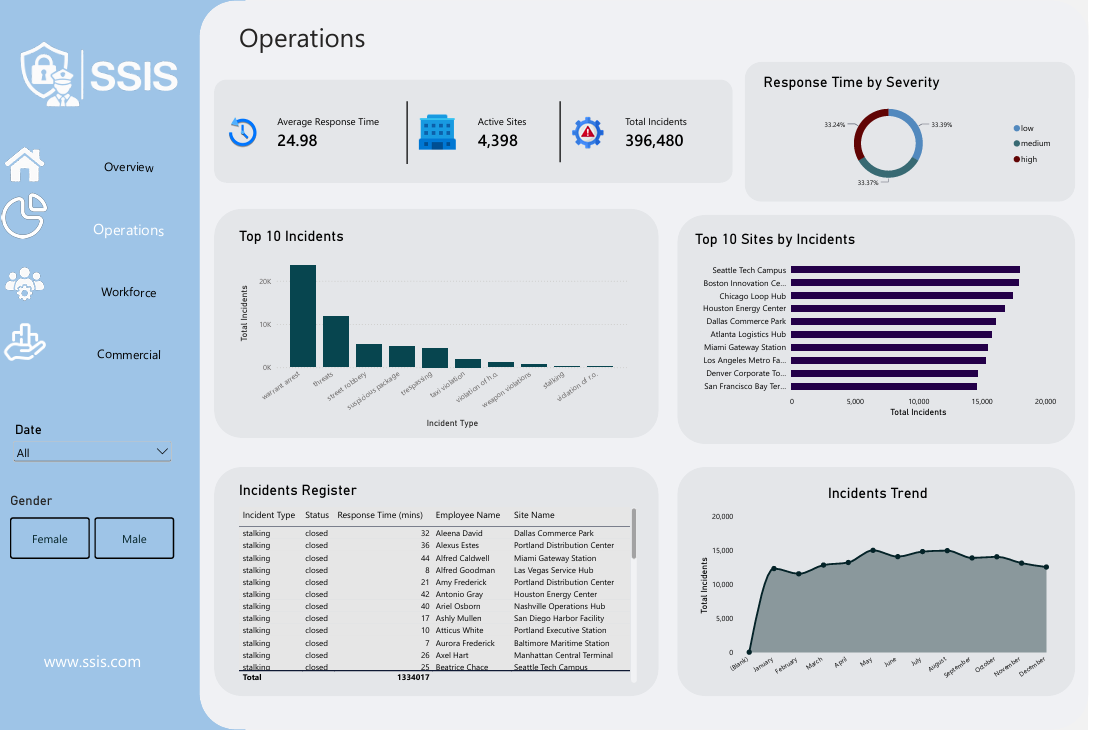

This screenshot's page, from the dashboard's own definition file:
{"tool":"powerbi","page":{"name":"Operations","canvas":[1280,720],"ordinal":2},"visuals":[{"type":"textbox","box":[401.1,11.8,859.6,64.7],"z":0},{"type":"shape","box":[10.3,11.8,205.7,696.5],"z":1000},{"type":"textbox","box":[29.4,27.9,173.4,48.5],"z":2000},{"type":"actionButton","box":[23.5,477.6,175.6,58.9],"z":2000,"group":"g1"},{"type":"actionButton","box":[29.4,373.2,174.1,58.9],"z":3000,"group":"g2"},{"type":"group","id":"g1","title":"Group 1","box":[23.5,477.6,174.9,58.8],"z":3000},{"type":"actionButton","box":[26.4,577.5,176.3,60.2],"z":3000,"group":"g7"},{"type":"group","id":"g2","title":"Group 2","box":[29.4,373.2,173.4,58.8],"z":4000},{"type":"image","box":[29.3,577.5,36.7,60.2],"z":4000,"group":"g7"},{"type":"group","id":"g3","title":"Group 3","box":[23.5,270.4,174.9,58.8],"z":5000},{"type":"actionButton","box":[23.5,270.4,174.9,58.8],"z":5000,"group":"g3"},{"type":"tableEx","title":"Top 10 Incidents","fields":{"Values":["ssis incident.incident_type","CountNonNull(ssis incident.incident_type)"]},"box":[986.8,99.1,273.9,322.1],"z":6000},{"type":"clusteredBarChart","title":"Top 10 Sites by Incidents","fields":{"Category":["ssis site.site_name"],"Y":["CountNonNull(ssis incident.incident_type)"]},"box":[227.1,200.9,389.5,351],"z":7000},{"type":"cardVisual","title":"Average Response Time","fields":{"Data":["ssis incident.Average Response Time"]},"box":[227.1,93.6,212.3,99.5],"z":8000,"group":"g4"},{"type":"clusteredColumnChart","title":"Response Time by Severity","fields":{"Category":["ssis incident.severity"],"Y":["Avg(ssis incident.response_time_minutes)"]},"box":[627.1,201.6,349.5,219.9],"z":8000},{"type":"image","box":[24.8,477.6,38,58.9],"z":8000,"group":"g1"},{"type":"cardVisual","title":"Total Incidents","fields":{"Data":["ssis incident.Total Incidents"]},"box":[764.1,89.6,213.1,98.4],"z":9000,"group":"g6"},{"type":"image","box":[30.7,373.2,37.7,58.9],"z":9000,"group":"g2"},{"type":"lineChart","title":"Incidents Trend","fields":{"Y":["CountNonNull(ssis incident.incident_type)"],"Category":["ssis incident.incident_datetime.Variation.Date Hierarchy.Year","ssis incident.incident_datetime.Variation.Date Hierarchy.Quarter","ssis incident.incident_datetime.Variation.Date Hierarchy.Month","ssis incident.incident_datetime.Variation.Date Hierarchy.Day"]},"box":[227.8,566.8,388.8,141.4],"z":9000},{"type":"cardVisual","title":"Active Sites","fields":{"Data":["ssis site.Active Sites"]},"box":[511.3,88.2,211.6,102.9],"z":10000,"group":"g5"},{"type":"image","box":[24.8,270.4,37.8,58.8],"z":10000,"group":"g3"},{"type":"tableEx","title":"Incidents Register","fields":{"Values":["ssis incident.incident_type","ssis incident.status","Sum(ssis incident.response_time_minutes)","ssis employee.employee_name","ssis site.site_name"]},"box":[627.1,432,633.6,288],"z":10000},{"type":"textbox","box":[227.8,27.9,158.7,48.5],"z":11000},{"type":"group","id":"g4","title":"Group 4","box":[227.1,93.6,212.3,99.5],"z":12000},{"type":"group","id":"g5","title":"Group 5","box":[511.3,88.2,211.6,102.9],"z":13000},{"type":"group","id":"g6","title":"Group 6","box":[764.1,89.6,213.1,98.4],"z":14000},{"type":"group","id":"g7","title":"Group 7","box":[26.4,577.5,176.3,60.2],"z":15000},{"type":"image","box":[227.8,124.9,95.5,63.2],"z":15002,"group":"g4"},{"type":"image","box":[764.1,89.6,80.8,98.4],"z":15003,"group":"g6"},{"type":"image","box":[511.3,88.2,95.5,99.9],"z":15004,"group":"g5"},{"type":"image","box":[22,98.4,180.7,155.8],"z":16000}]}

Visuals, with their boxes on the page's 1280x720 design canvas (x1, y1, x2, y2). These are canvas units, not pixel positions in the 1093x736 screenshot, which may show the page scaled, cropped or inside an application window:
textbox: left=401, top=12, right=1261, bottom=76
shape: left=10, top=12, right=216, bottom=708
textbox: left=29, top=28, right=203, bottom=76
actionButton: left=24, top=478, right=199, bottom=536
actionButton: left=29, top=373, right=204, bottom=432
"Group 1" group: left=24, top=478, right=198, bottom=536
actionButton: left=26, top=578, right=203, bottom=638
"Group 2" group: left=29, top=373, right=203, bottom=432
image: left=29, top=578, right=66, bottom=638
"Group 3" group: left=24, top=270, right=198, bottom=329
actionButton: left=24, top=270, right=198, bottom=329
"Top 10 Incidents" tableEx: left=987, top=99, right=1261, bottom=421
"Top 10 Sites by Incidents" clusteredBarChart: left=227, top=201, right=617, bottom=552
"Average Response Time" cardVisual: left=227, top=94, right=439, bottom=193
"Response Time by Severity" clusteredColumnChart: left=627, top=202, right=977, bottom=422
image: left=25, top=478, right=63, bottom=536
"Total Incidents" cardVisual: left=764, top=90, right=977, bottom=188
image: left=31, top=373, right=68, bottom=432
"Incidents Trend" lineChart: left=228, top=567, right=617, bottom=708
"Active Sites" cardVisual: left=511, top=88, right=723, bottom=191
image: left=25, top=270, right=63, bottom=329
"Incidents Register" tableEx: left=627, top=432, right=1261, bottom=720
textbox: left=228, top=28, right=386, bottom=76
"Group 4" group: left=227, top=94, right=439, bottom=193
"Group 5" group: left=511, top=88, right=723, bottom=191
"Group 6" group: left=764, top=90, right=977, bottom=188
"Group 7" group: left=26, top=578, right=203, bottom=638
image: left=228, top=125, right=323, bottom=188
image: left=764, top=90, right=845, bottom=188
image: left=511, top=88, right=607, bottom=188
image: left=22, top=98, right=203, bottom=254
